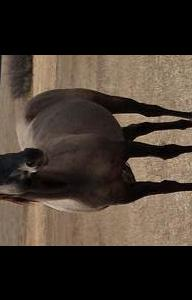horse: (0, 87, 192, 213)
